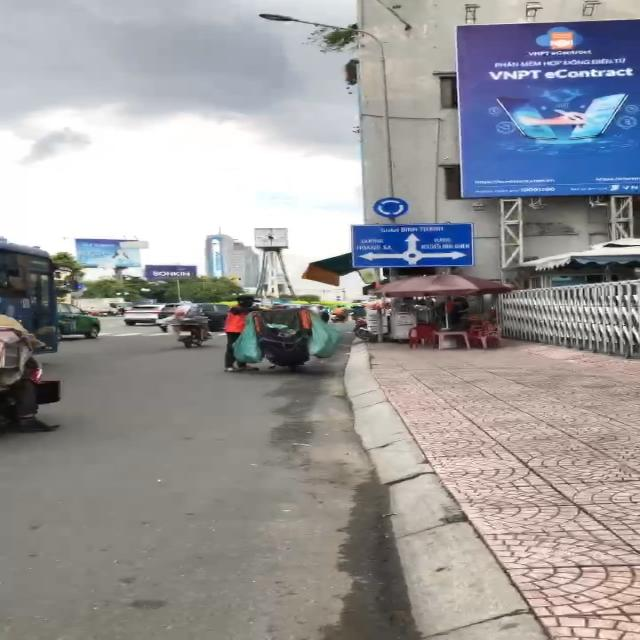Bien bao noi giao nhau chay theo vong xuyen: (373, 194, 411, 220)
